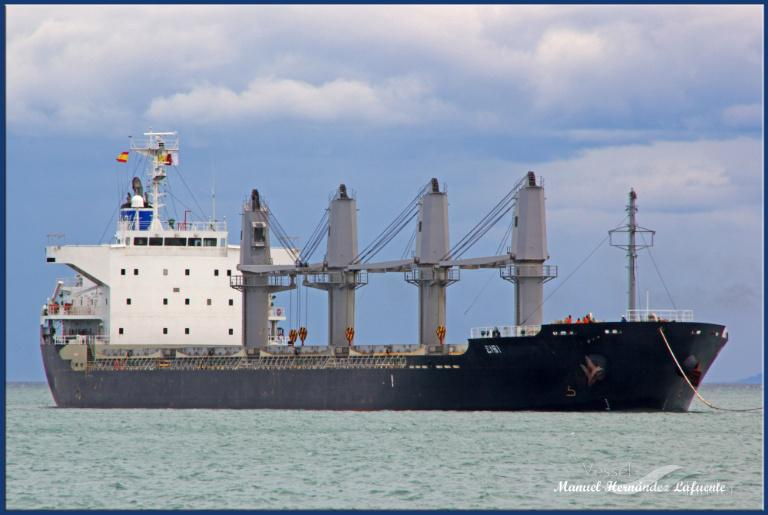OCR: (479, 340, 510, 358)
